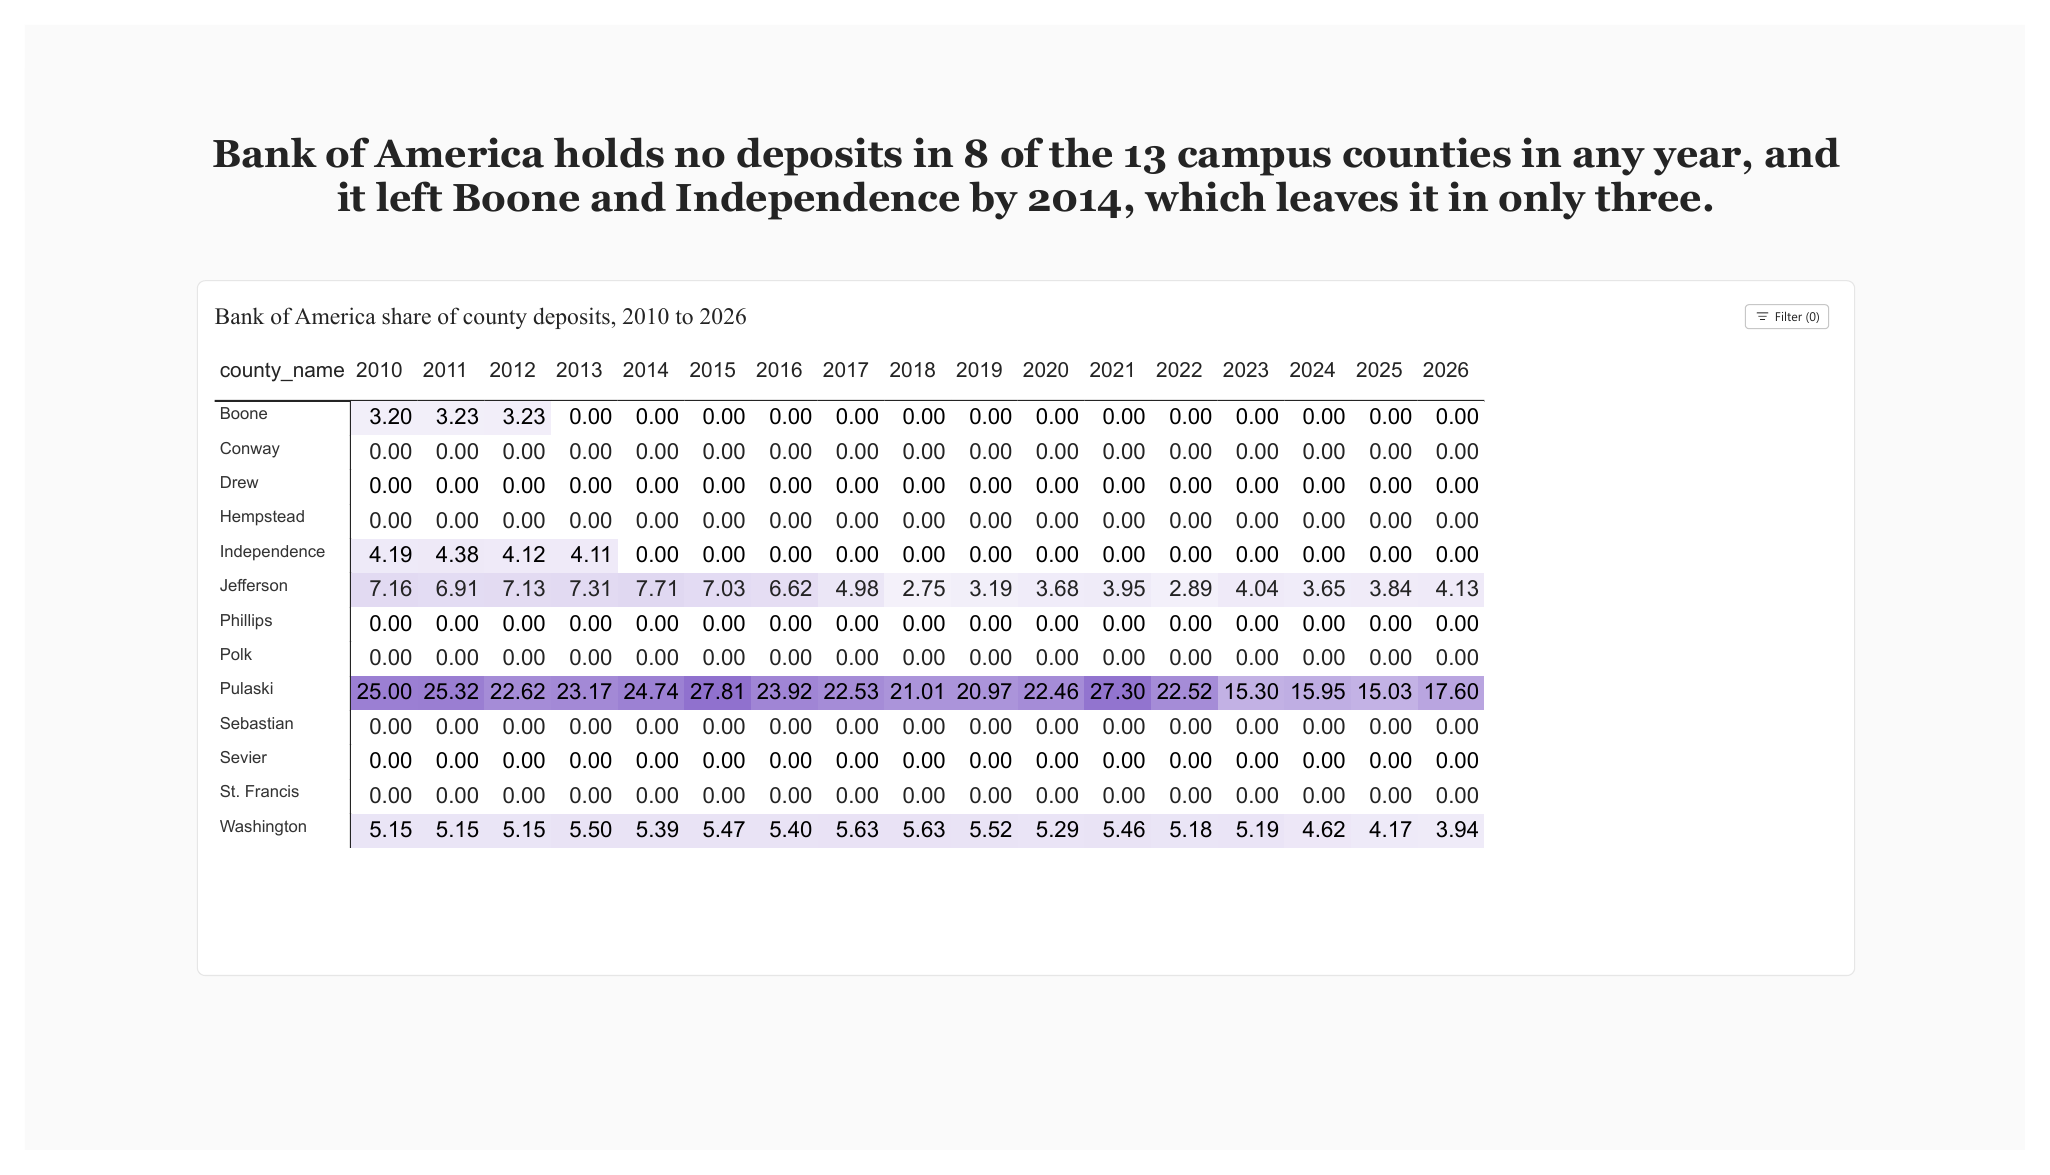

The page's visual inventory and layout, read from the dashboard file:
{"tool":"powerbi","page":{"name":"Share by county","canvas":[1920,1080],"ordinal":5},"visuals":[{"type":"pivotTable","title":"Bank of America share of county deposits, 2010 to 2026","fields":{"Columns":["cln vw_BoA_CampusCounty.sod_year"],"Rows":["cln vw_BoA_CampusCounty.county_name"],"Values":["Max(cln vw_BoA_CampusCounty.boa_share_pct)"]},"box":[164.9,244.8,1592,667.8],"z":0},{"type":"textbox","box":[164.9,103.2,1592,149.9],"z":1000}]}

Visuals, with their boxes in screenshot pixels (x1, y1, x2, y2), scaled from the page's 1920x1080 canvas onto the 2050x1175 screenshot:
"Bank of America share of county deposits, 2010 to 2026" pivotTable: left=176, top=266, right=1876, bottom=993
textbox: left=176, top=112, right=1876, bottom=275
